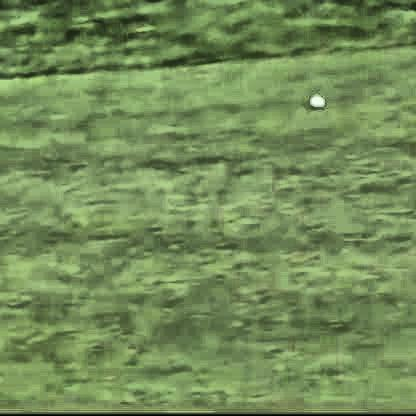golfball: (304, 92, 323, 108)
